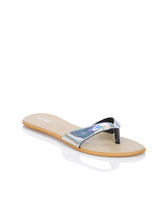shoes: (25, 109, 155, 164)
